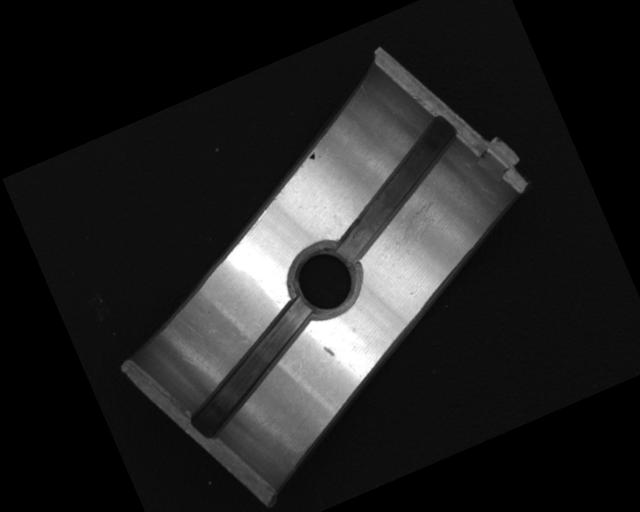blot: (306, 149, 319, 162)
bruise: (321, 343, 336, 360)
gap: (164, 296, 341, 443), (309, 118, 484, 264)
hole: (281, 234, 371, 329)
scratch: (375, 176, 459, 260)
